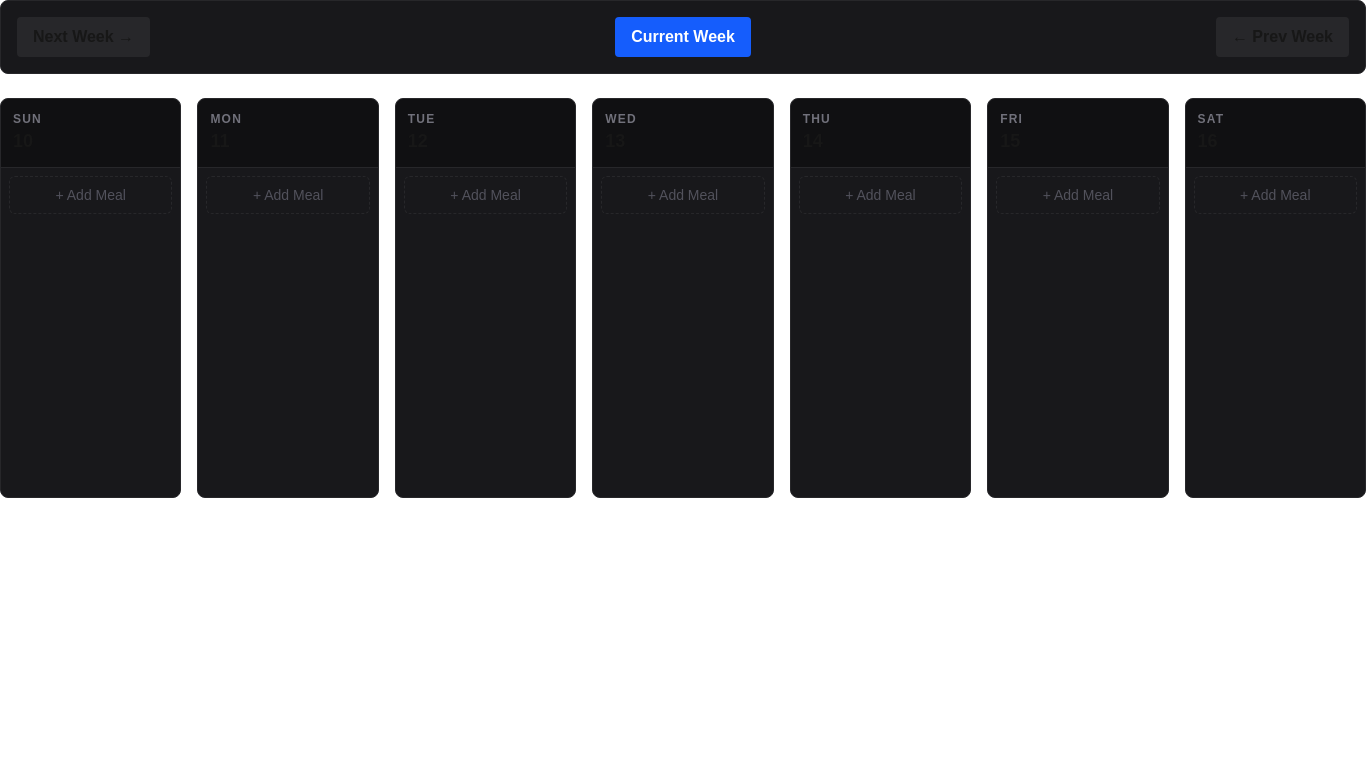
it: MealCalendarClient › can open add meal modal
Click the button "+ Add Meal" below "10": click(91, 195) 9,176 -> 172,214
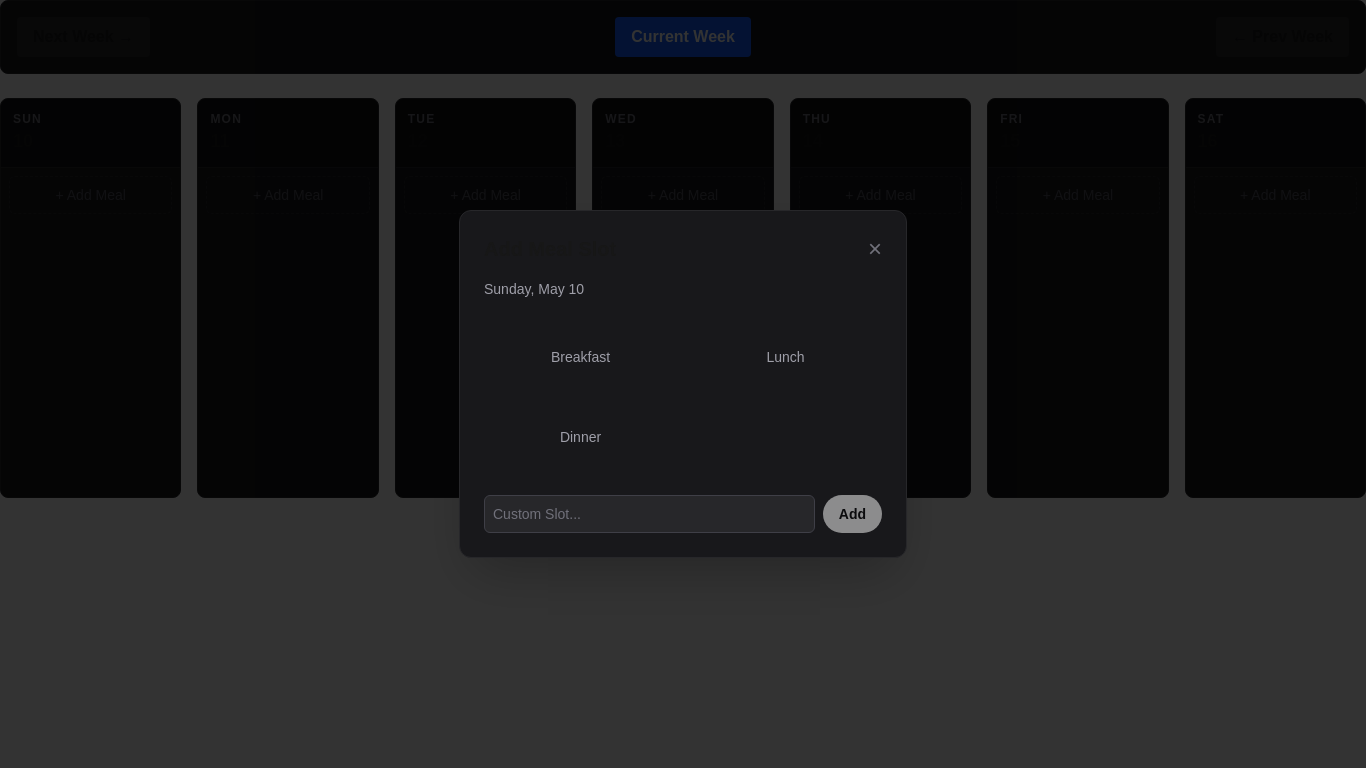
Expected: the button "Breakfast" is shown, 484,323 -> 677,391
